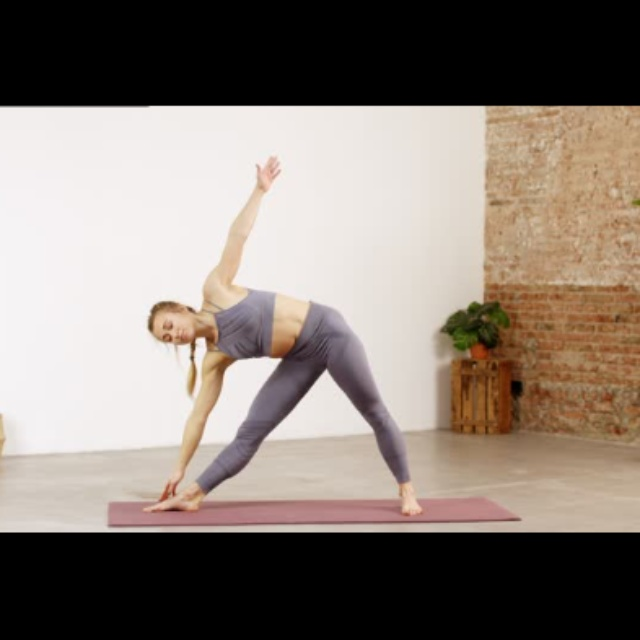Triangle_Pose: (143, 143, 435, 525)
